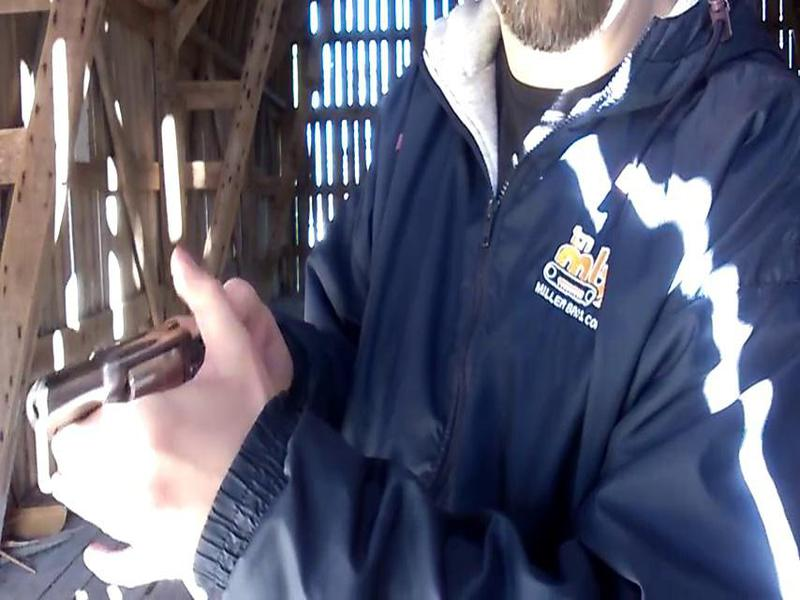Revolver: (22, 312, 223, 469)
